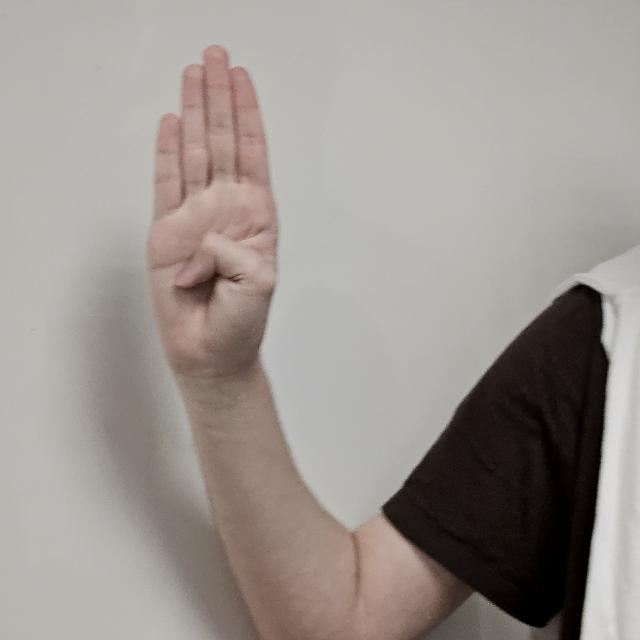Baixo: (152, 42, 278, 484)
